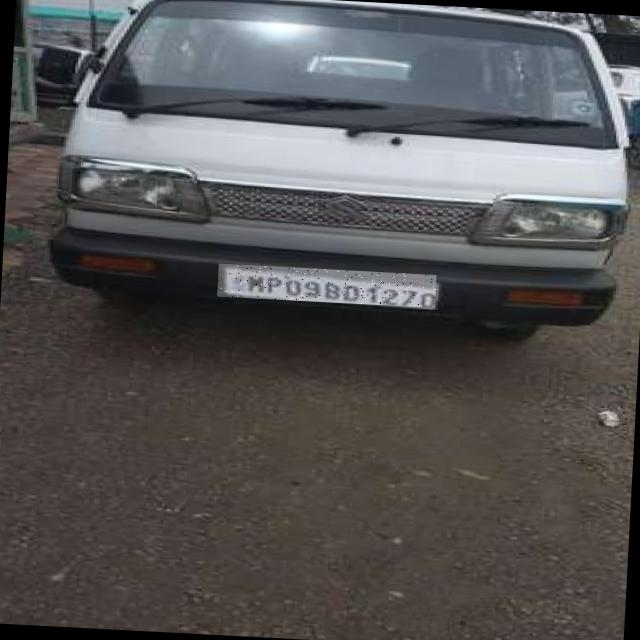Plate: (219, 265, 438, 309)
